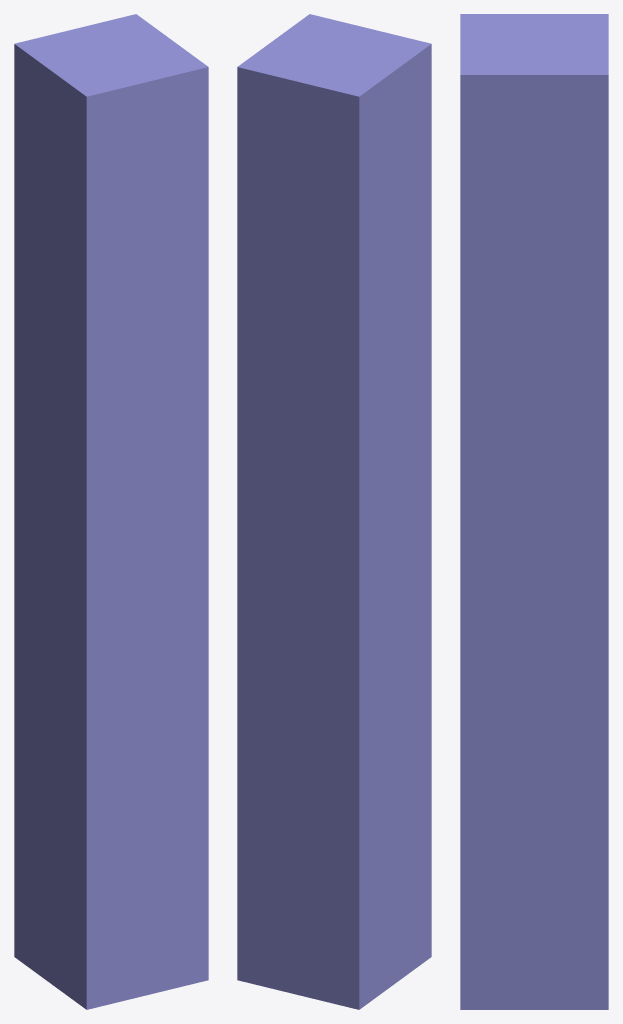
The model's file is fence_post_base.DAE.
3 views of the same model, side by side, from view 1: azimuth 30°, elevation 25°; view 2: azimuth 150°, elevation 25°; view 3: azimuth 270°, elevation 25° (orthographic). The views are drawn at different scales.
Parts seen in each view (by area): view 1: bounds; view 2: bounds; view 3: bounds.
Part boxes in pixels (x1,y1,x2,y2): bounds: (14, 14, 208, 1009); bounds: (237, 14, 431, 1009); bounds: (460, 14, 608, 1009).
Bounding box in the file's own units: 0.311 × 0.32 × 2.23.
